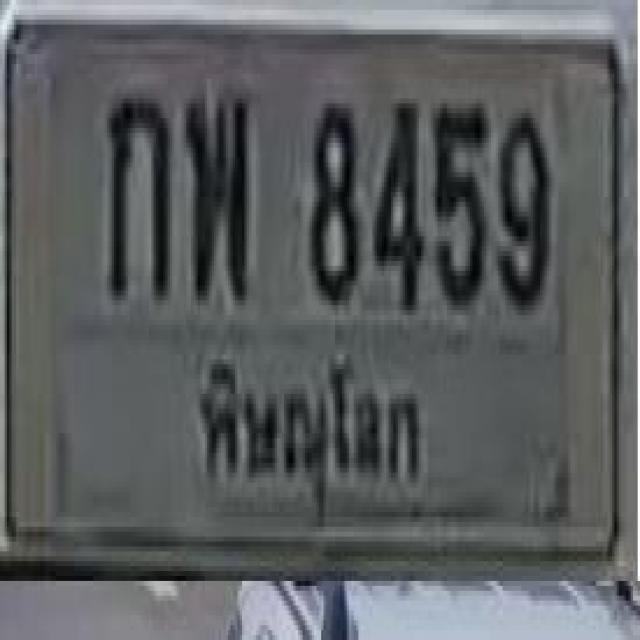license_plate: (2, 15, 636, 573)
